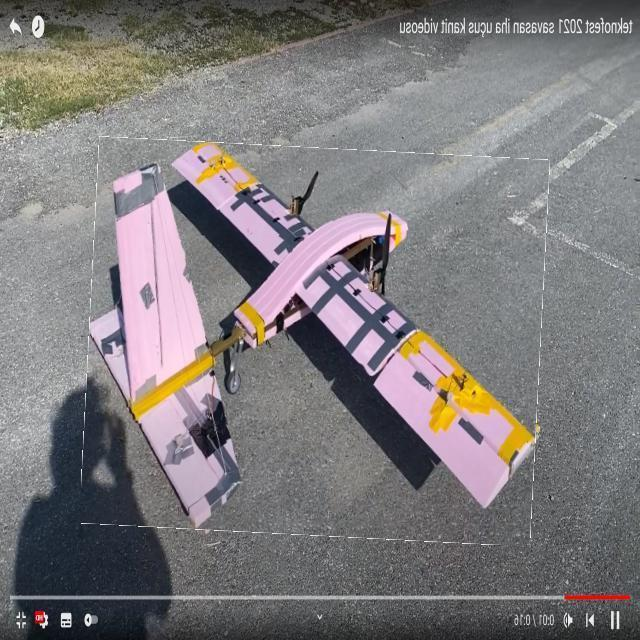UAV: (97, 135, 530, 530)
